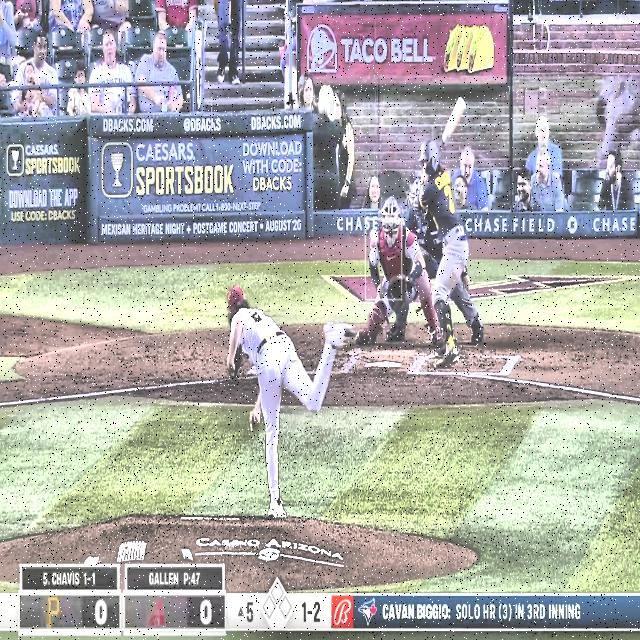baseball: (370, 230, 378, 243)
